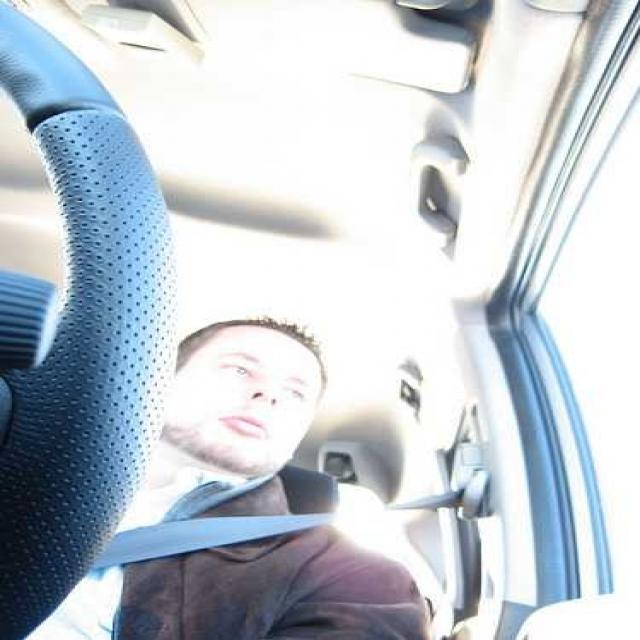seatbelt: (102, 433, 485, 603)
